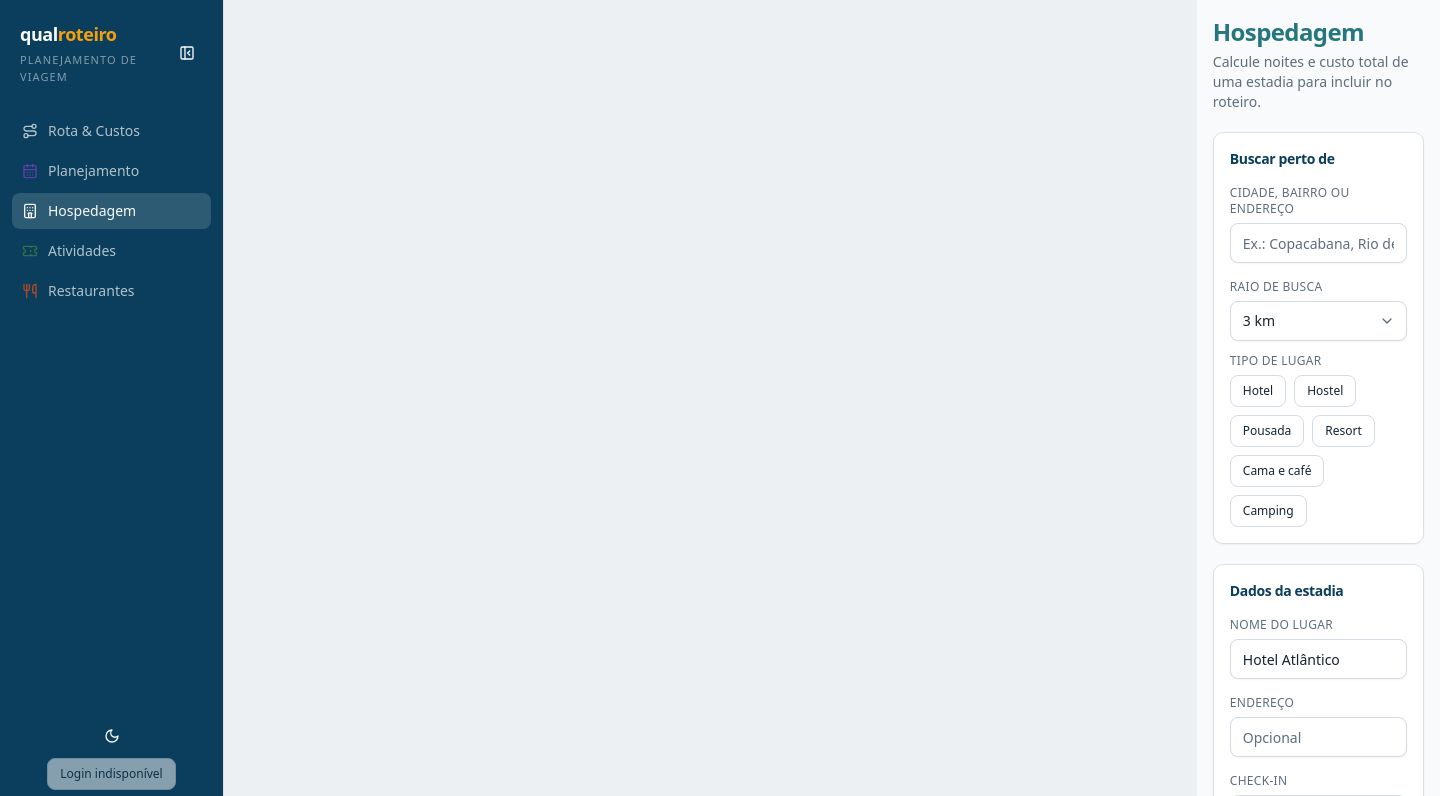
Test: Hospedagem module › searches lodging near the selected reference and selects from the list or map
Type "Rio" into the dropdown labelled "Cidade, bairro ou endereço" at coordinates (1318, 243), box [1230,223,1407,263]
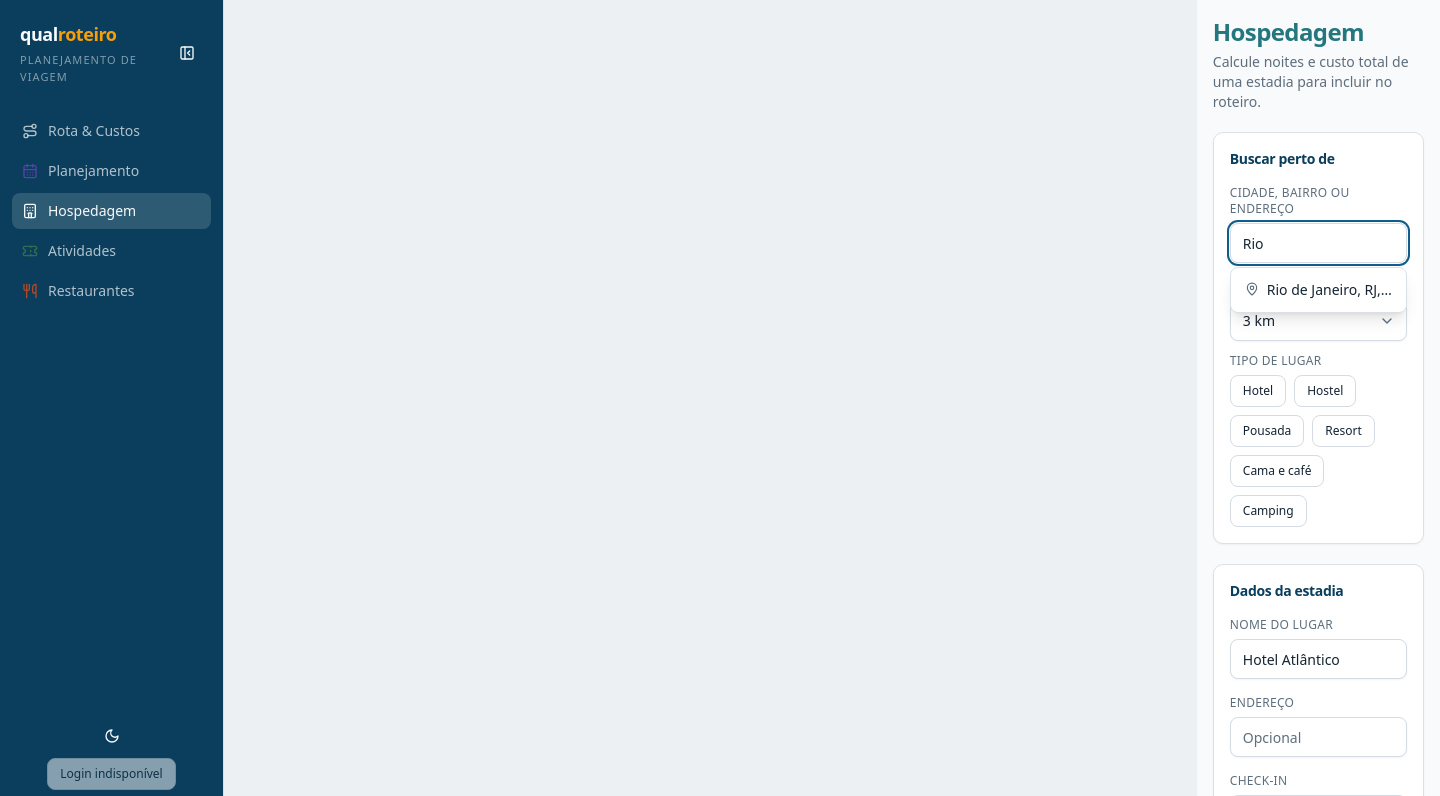
Check: the option "Rio de Janeiro, RJ, Brasil" is shown
Click the option "Rio de Janeiro, RJ, Brasil" at coordinates (1318, 290), box [1235,272,1402,308]
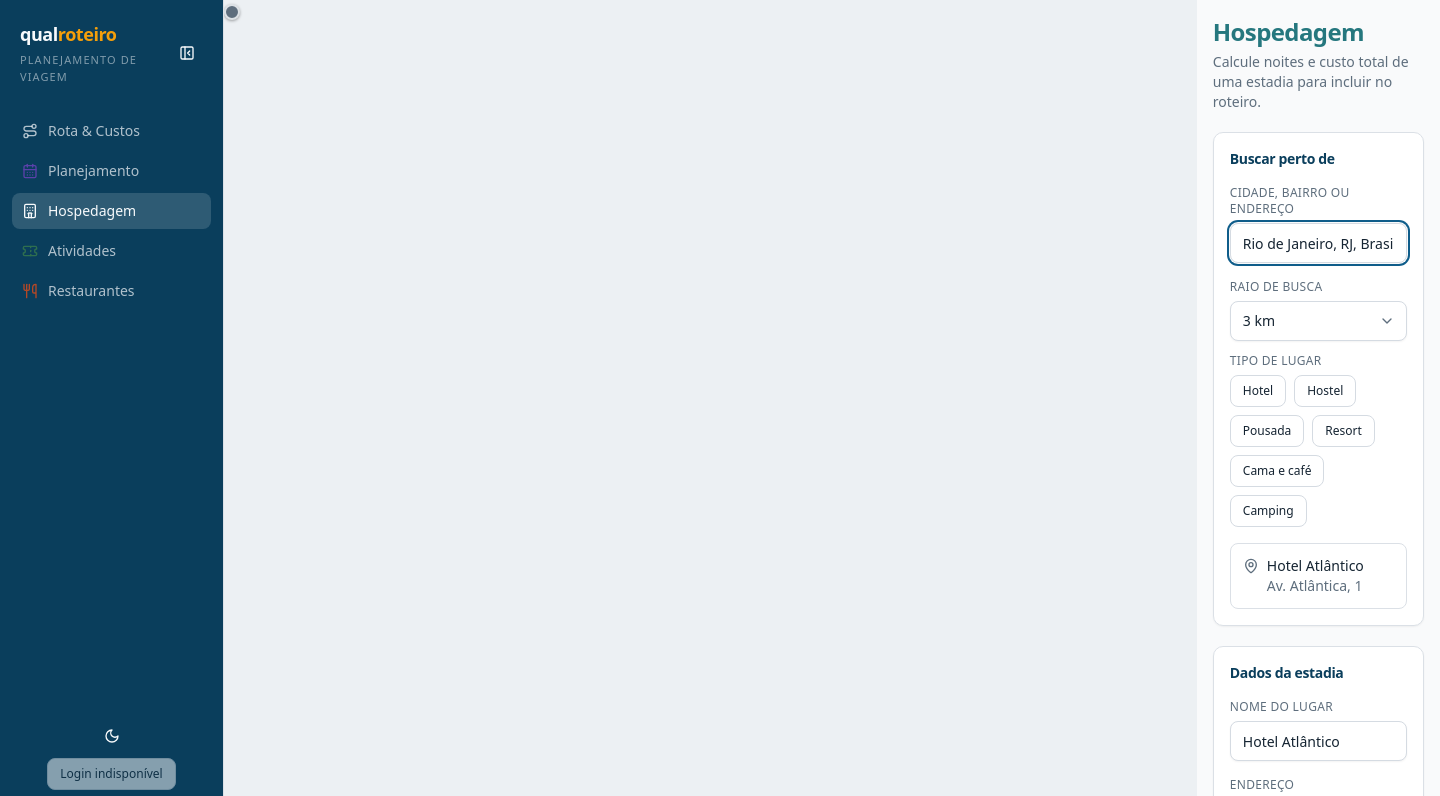
Check: the button "Hotel Atlântico Av. Atlântica, 1" is shown
Click the button "Hotel Atlântico Av. Atlântica, 1" at coordinates (1318, 576), box [1230,543,1407,609]
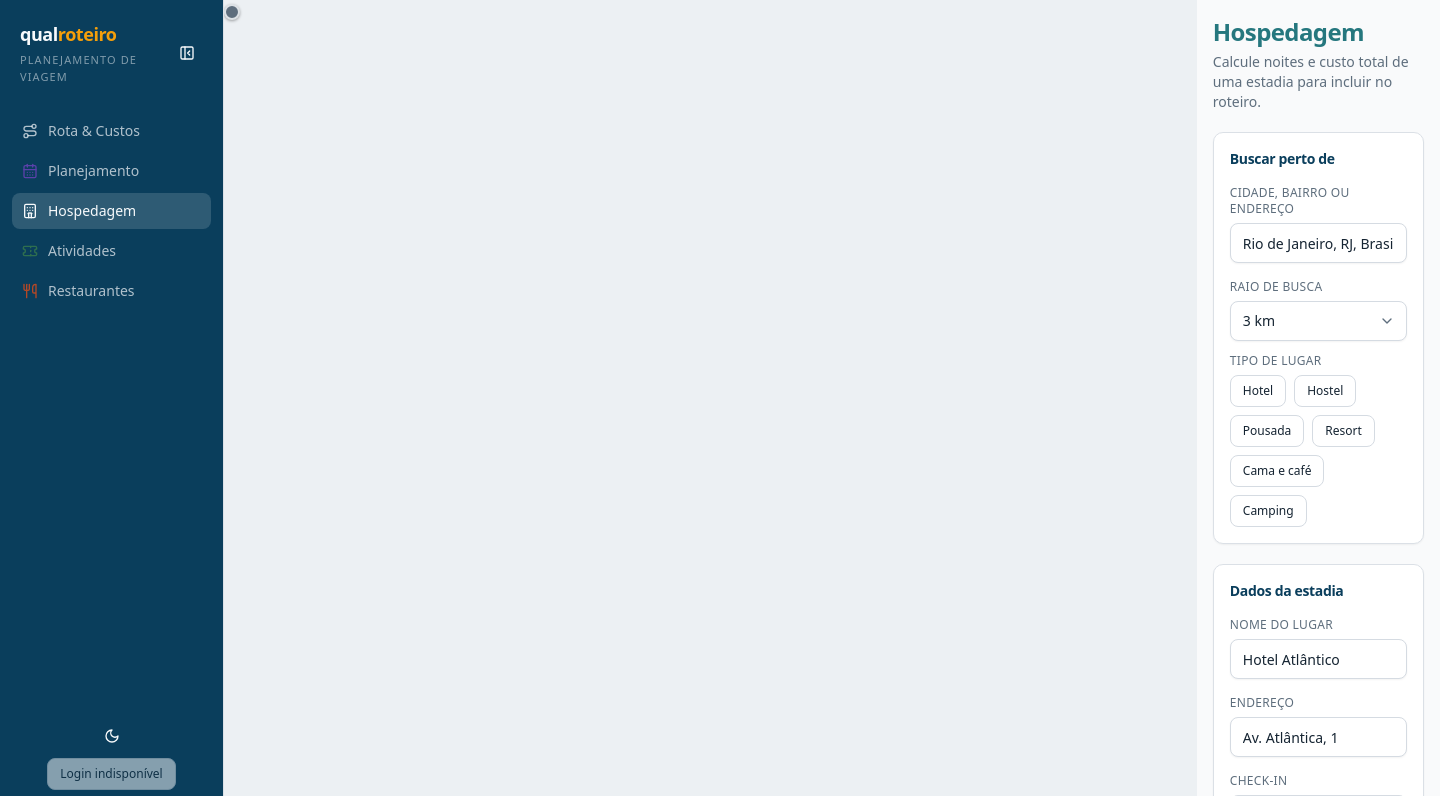
Check: the field labelled "Endereço" holds "Av. Atlântica, 1", box [1230,717,1407,757]
Clear the field labelled "Nome do lugar" at coordinates (1318, 659), box [1230,639,1407,679]
Clear the field labelled "Endereço" at coordinates (1318, 737), box [1230,717,1407,757]
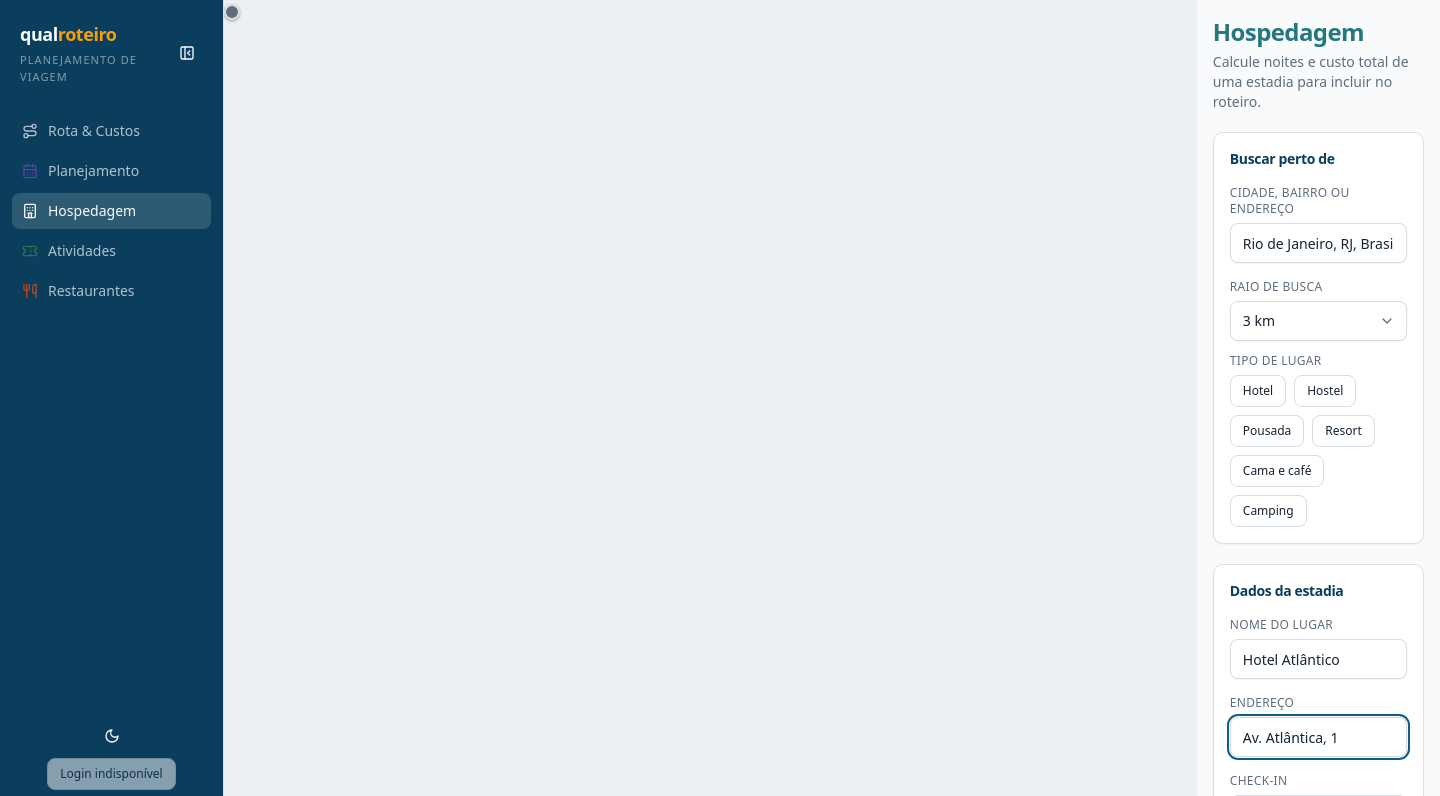
Check: the field labelled "Endereço" holds "Av. Atlântica, 1", box [1230,717,1407,757]
Check: the field labelled "Nome do lugar" holds "Hotel Atlântico", box [1230,639,1407,679]
Replace the text in the dropdown labelled "Cidade, bairro ou endereço" with "Rio" at coordinates (1318, 243), box [1230,223,1407,263]
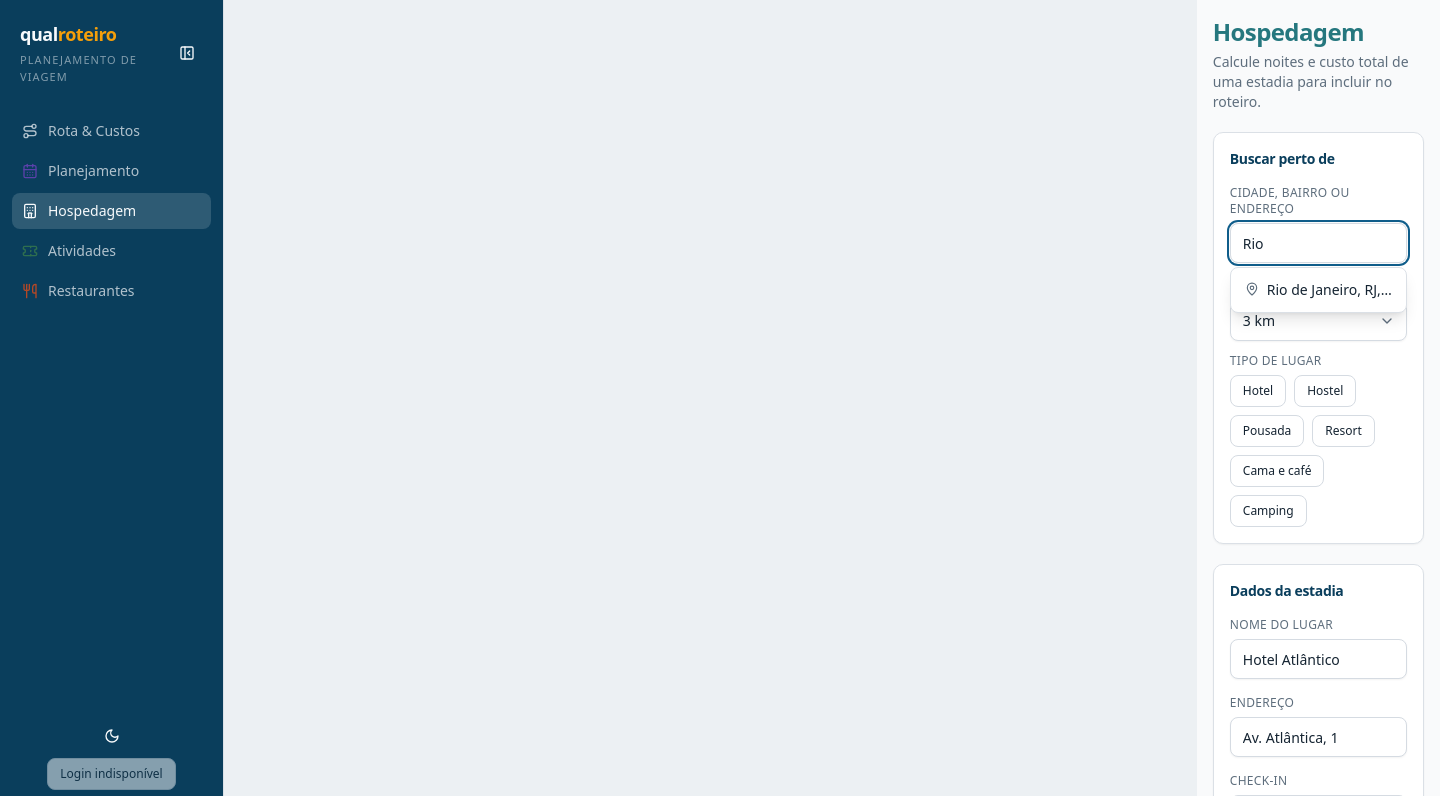
Click the option "Rio de Janeiro, RJ, Brasil" at coordinates (1318, 290), box [1235,272,1402,308]
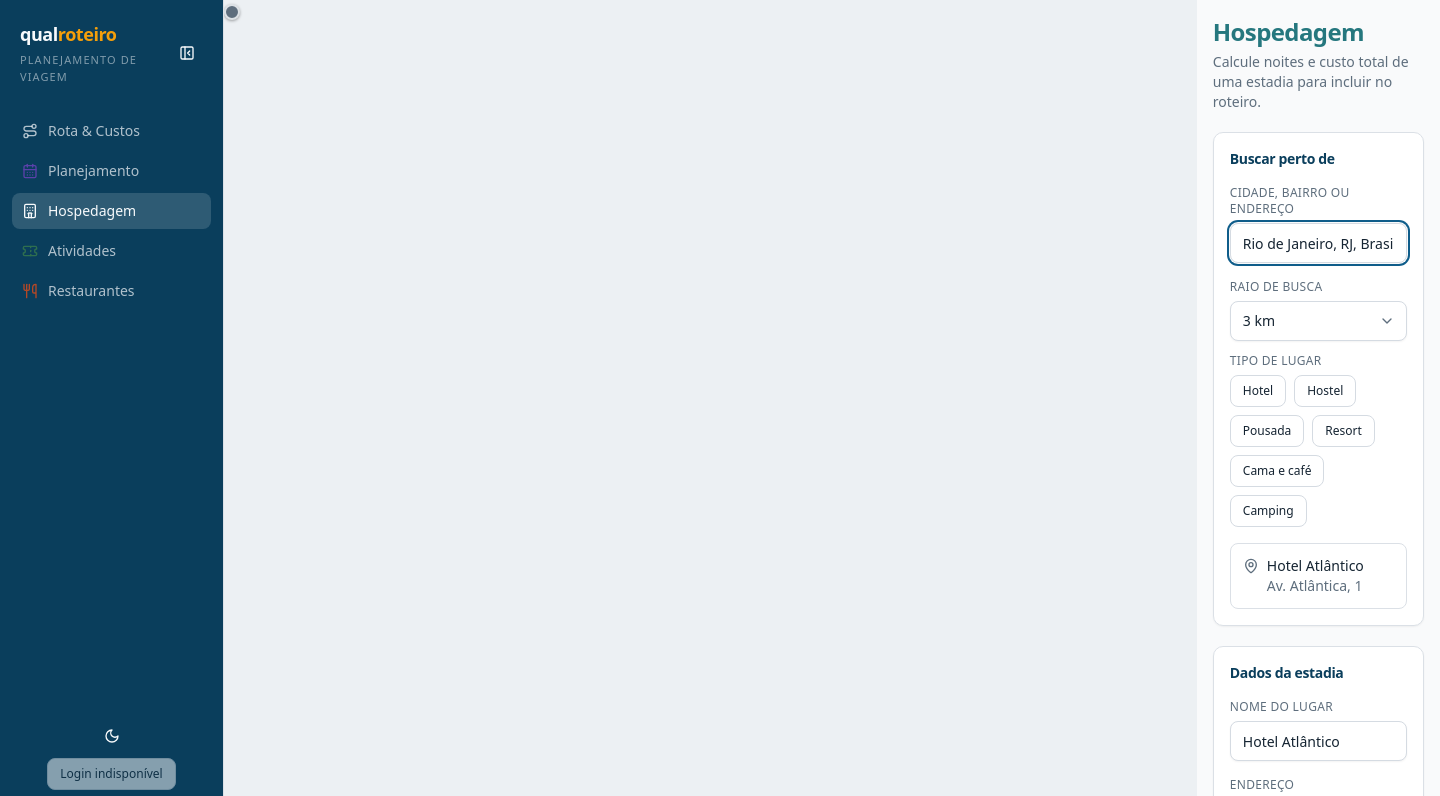
Check: the list named "Hospedagens encontradas" is shown, box [1230,543,1407,609]
